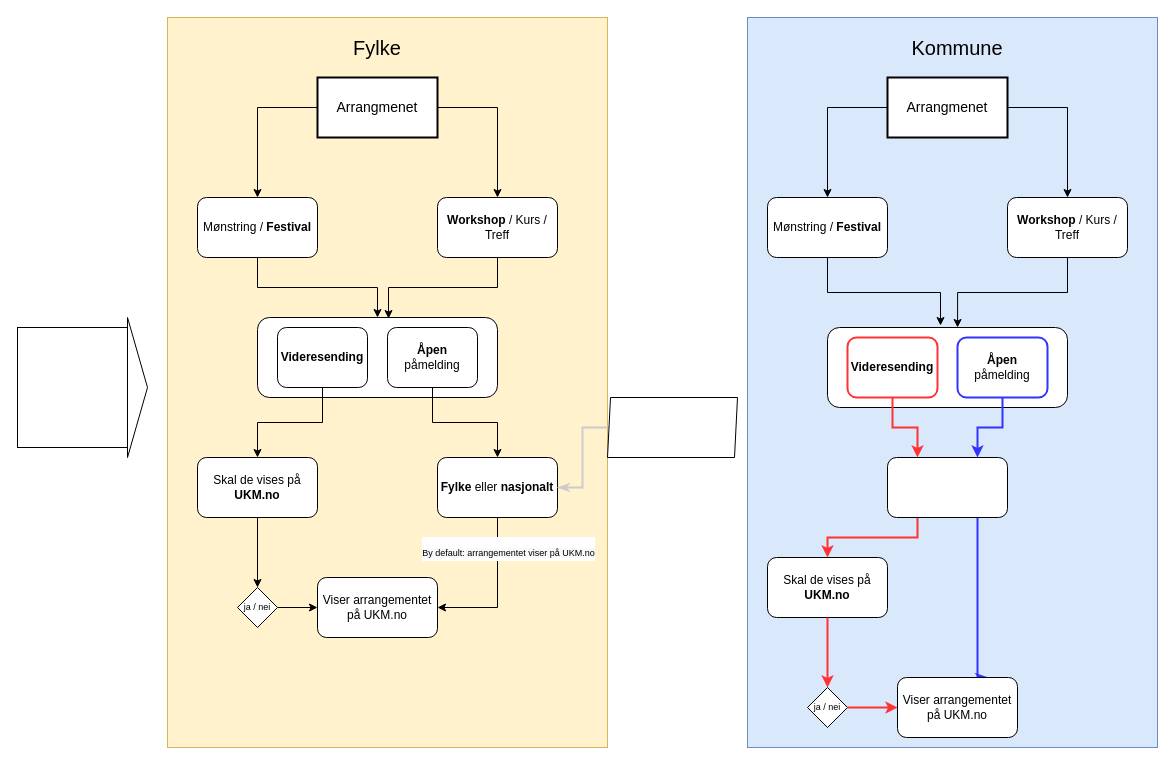
This 1175x765 diagram has some shape labels left out. Here are the shapes that lost their labels. From the top down, the box of each, then its label:
(16, 326, 128, 448): I arrangørsystemet søk og velg en fylke eller en kommune
(606, 396, 738, 458): 'nasjonalt' Saved as: nedslagsfelt
(886, 456, 1008, 518): Arrangerer du sammen med andre kommuner
